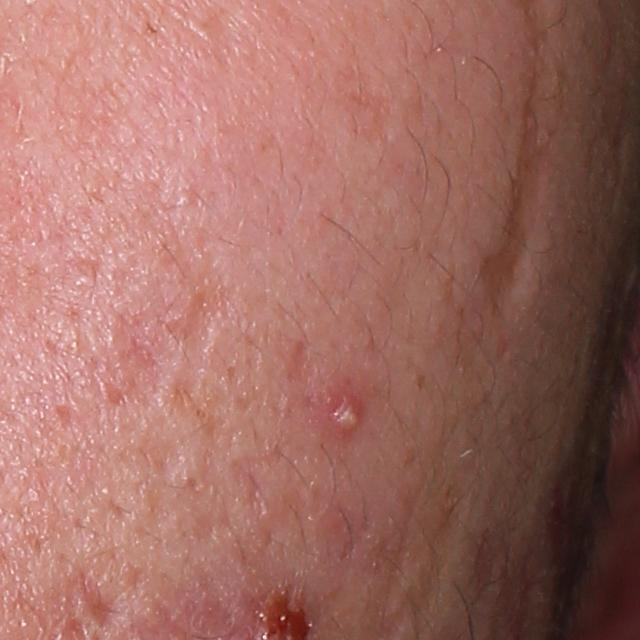atrophic_scar: (160, 295, 234, 422), (80, 574, 124, 626)
pustule: (319, 386, 365, 443)
